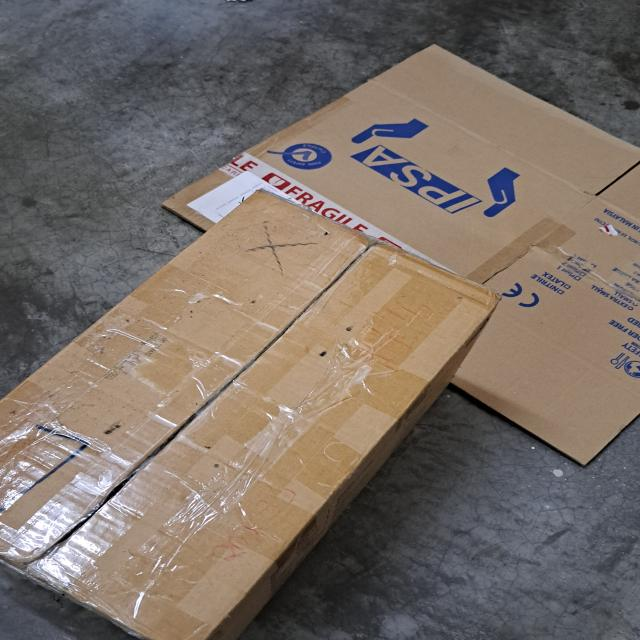cardboard: (0, 187, 502, 640), (163, 45, 640, 468)
